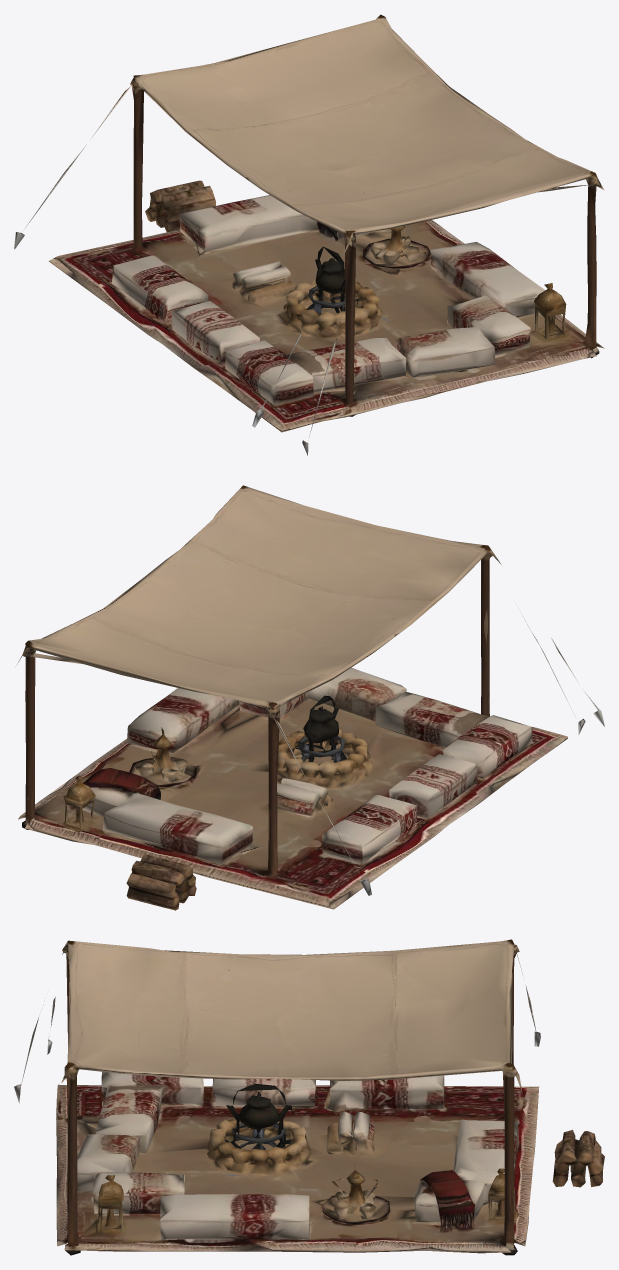
File: kashta.glb
3 views of the same model, one above another, from view 1: azimuth 30°, elevation 25°; view 2: azimuth 150°, elevation 25°; view 3: azimuth 270°, elevation 25° (orthographic). The views are drawn at different scales.
Parts seen in each view (by area): view 1: tripo_node_d1de86a3-e33a-4306-9911-b802c9c340dd; view 2: tripo_node_d1de86a3-e33a-4306-9911-b802c9c340dd; view 3: tripo_node_d1de86a3-e33a-4306-9911-b802c9c340dd.
Boxes of the visible parts, left/top/right/bottom form: tripo_node_d1de86a3-e33a-4306-9911-b802c9c340dd: left=14, top=14, right=604, bottom=455; tripo_node_d1de86a3-e33a-4306-9911-b802c9c340dd: left=17, top=485, right=604, bottom=910; tripo_node_d1de86a3-e33a-4306-9911-b802c9c340dd: left=14, top=939, right=604, bottom=1255.
Size of the model in its own units: 0.7369 by 0.3677 by 1.
Materials: 1 (1 with a texture image).
